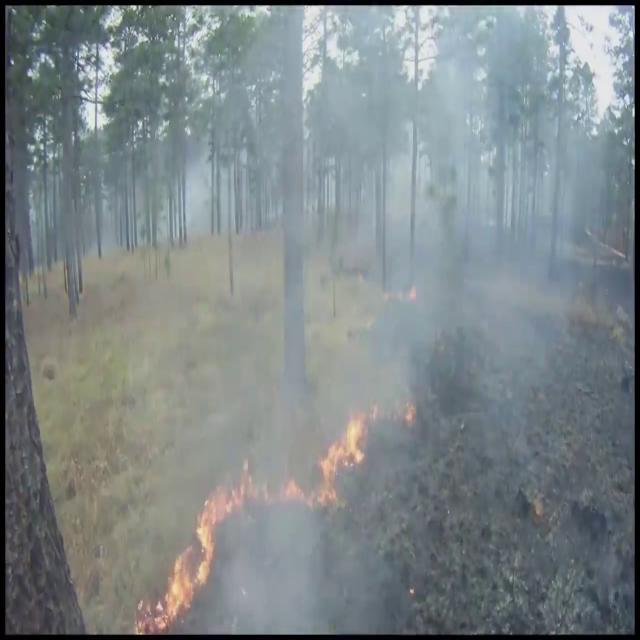Fire: (138, 475, 234, 632), (317, 402, 372, 508)
Smoke: (76, 6, 623, 616)
